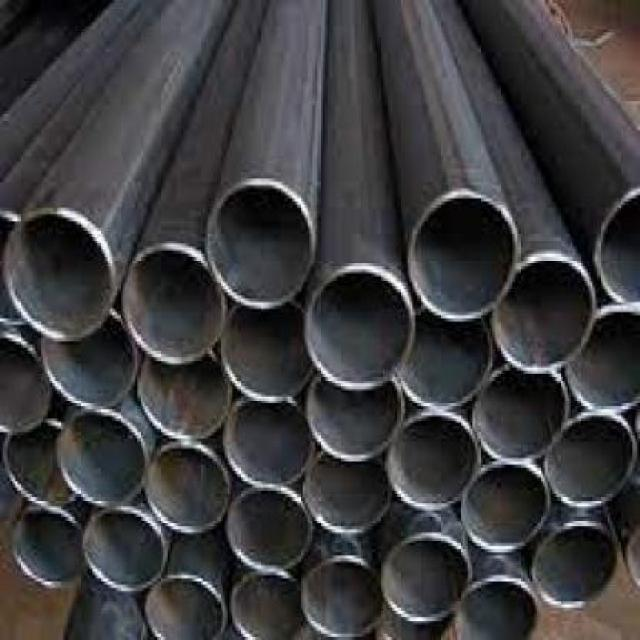pipe: (405, 186, 524, 328), (201, 174, 321, 313), (0, 211, 117, 344), (299, 262, 416, 391), (121, 239, 230, 368), (489, 250, 598, 373), (466, 360, 572, 466), (216, 299, 316, 407), (38, 310, 140, 412), (399, 307, 492, 416), (299, 371, 404, 467), (457, 458, 551, 558), (384, 410, 481, 506), (378, 527, 474, 624), (566, 296, 640, 419), (544, 410, 640, 504), (54, 408, 148, 504), (223, 480, 317, 576), (136, 349, 235, 440), (219, 399, 318, 487), (143, 437, 231, 535), (528, 519, 621, 610), (83, 502, 172, 593), (0, 419, 86, 510), (6, 502, 89, 593), (303, 551, 383, 639), (306, 459, 389, 539), (142, 571, 228, 640), (448, 577, 542, 640), (229, 566, 309, 640), (594, 182, 640, 307), (0, 333, 54, 438)
